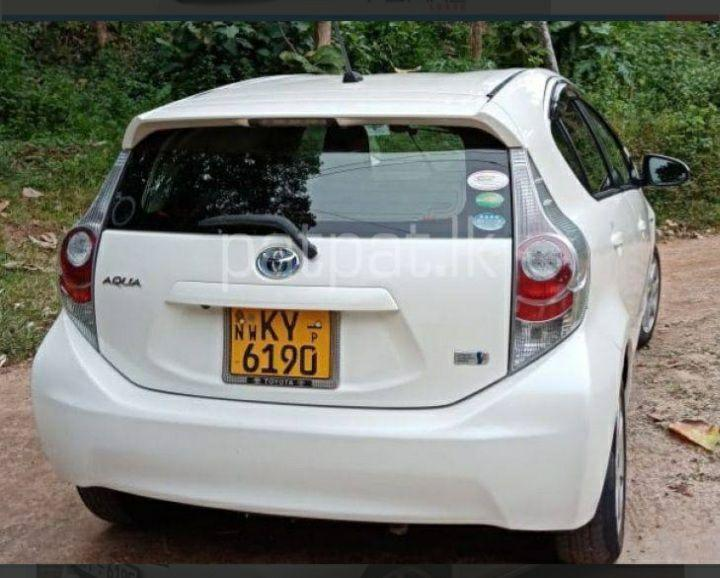license-plate: (230, 306, 329, 377)
